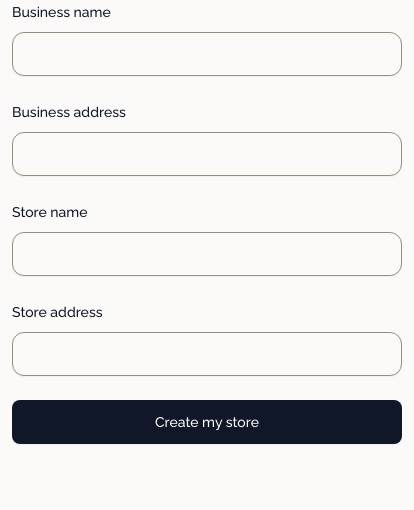
Test: OnboardingForm › maps the unauthorized code to session text and never shows the bare word Unauthorized
Type "Acme Ltd" into the field labelled "Business name". click: {"x": 207, "y": 54}
box: [12,32,402,76]
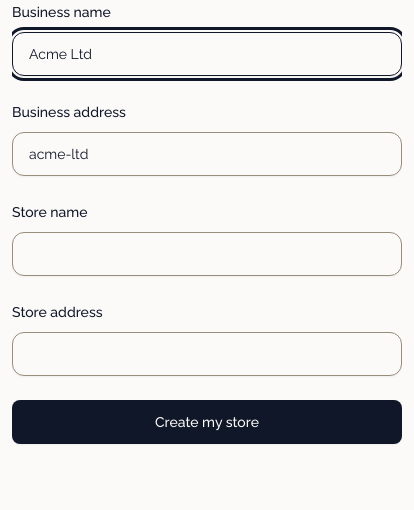
Type "Acme Shop" into the field labelled "Store name". click: {"x": 207, "y": 254}
box: [12,232,402,276]
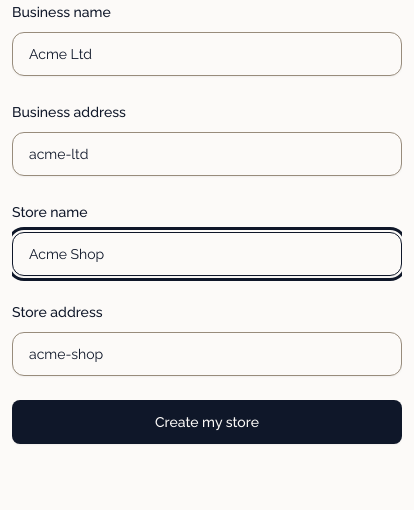
Click the button "Create my store". click: {"x": 207, "y": 422}
box: [12,400,402,444]
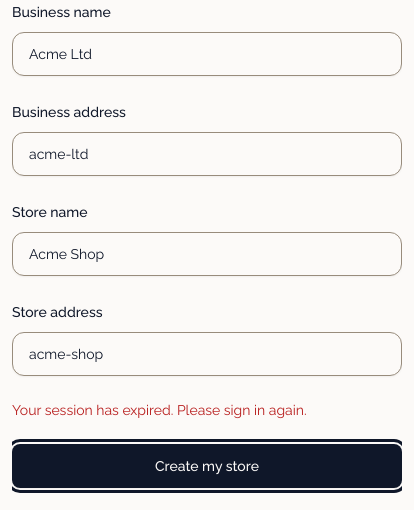
Check: the message does not show "unauthorized", box [12,402,307,418]
Check: the message reads "Your session has expired. Please sign in again.", box [12,402,307,418]
